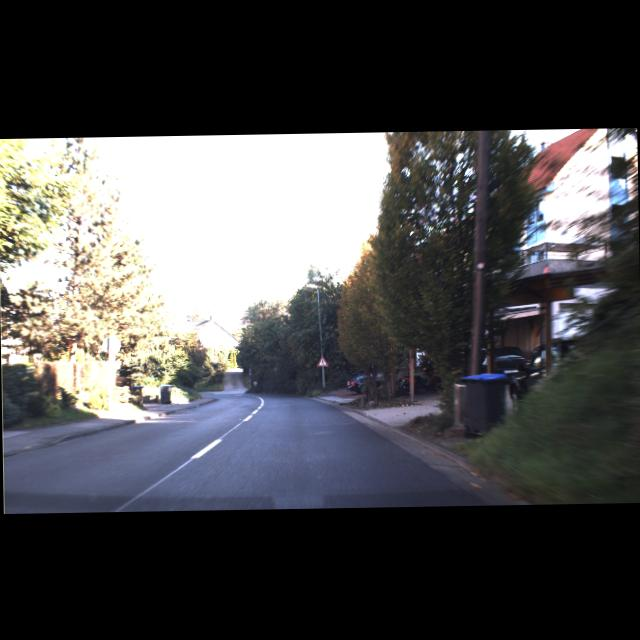danger: (316, 354, 327, 366)
